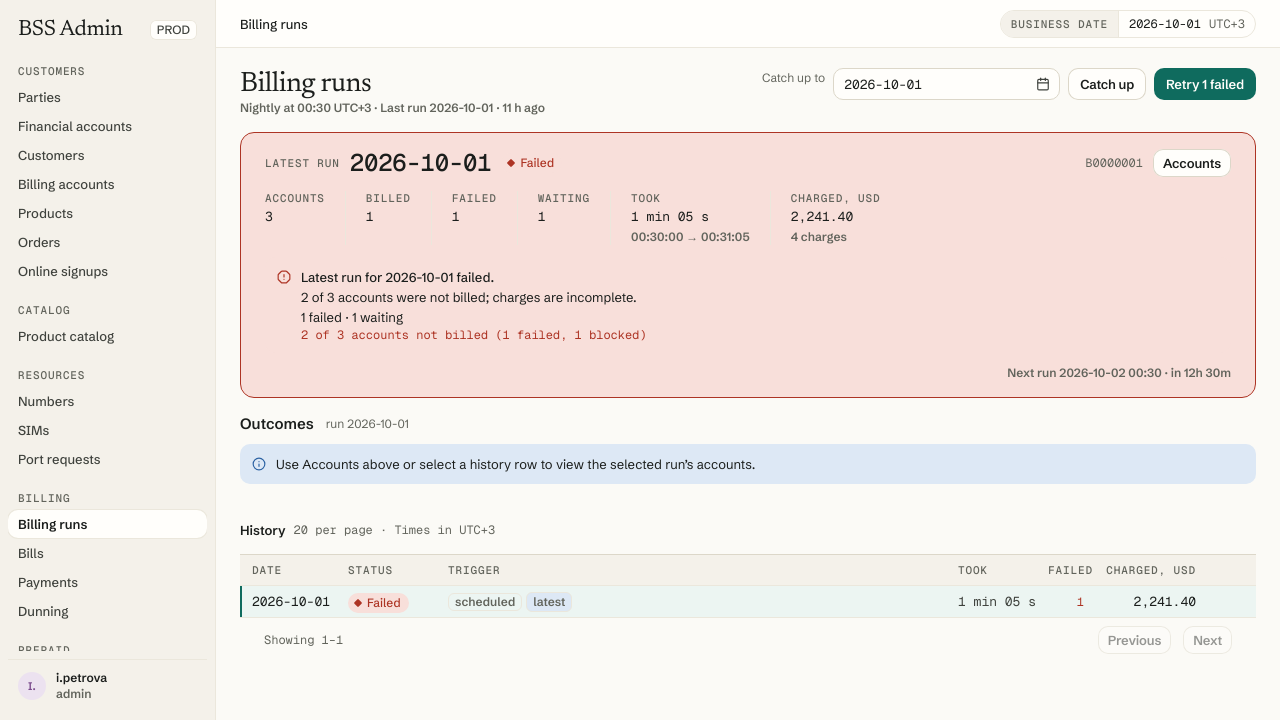
billing runs: a failed run and retry (Q3: any failed run) › shows the server reason when a retry is refused
Click the button "Retry 1 failed": point(1205, 84) [1154,68,1256,100]
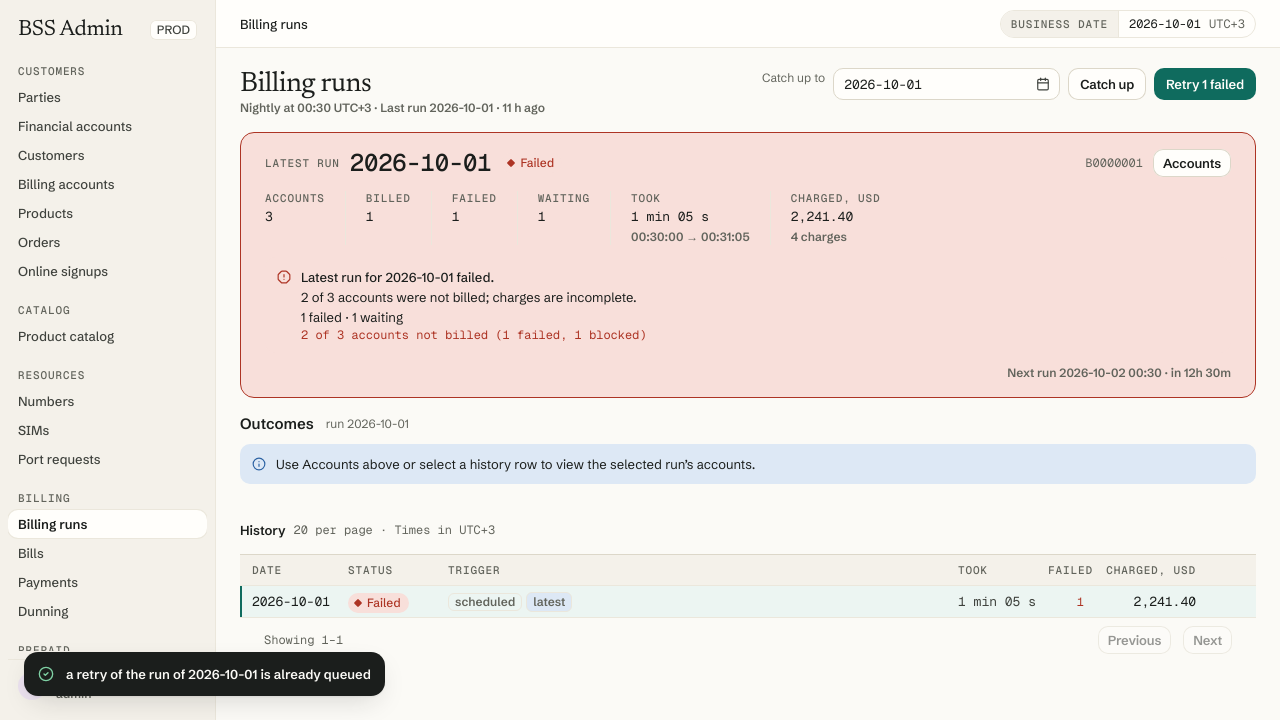
Now the text "a retry of the run of 2026-10-01 is already queued" is shown, box [66,664,371,684]
